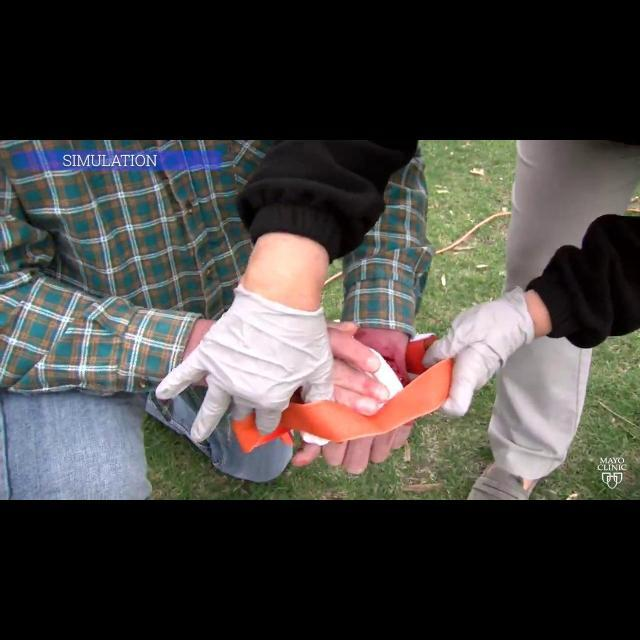blood: (350, 326, 410, 386)
